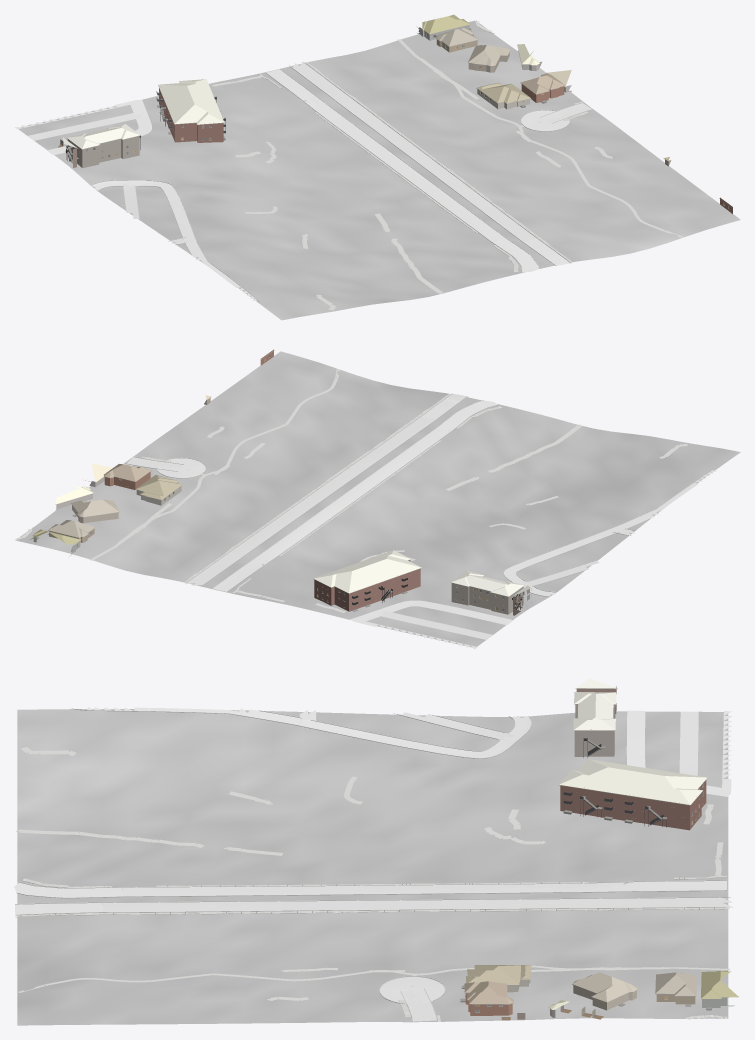
3 views of the same model, one above another, from view 1: azimuth 30°, elevation 25°; view 2: azimuth 150°, elevation 25°; view 3: azimuth 270°, elevation 25° (orthographic). The views are drawn at different scales.
Visible parts, largest first — view 1: ground, asphalt, roof, concrete, walk, wall, curb, detail, wall_stucco, mark_w; view 2: ground, asphalt, roof, concrete, walk, wall, curb, detail, wall_stucco, mark_w; view 3: ground, asphalt, roof, concrete, walk, curb, wall, detail, mark_w, wall_stucco, mark_y.
Boxes of the visible parts, x1,y1,x2,y2 form: ground: [18, 20, 740, 320]; asphalt: [266, 62, 569, 272]; roof: [63, 14, 669, 160]; concrete: [14, 99, 591, 300]; walk: [212, 20, 683, 310]; wall: [67, 34, 732, 213]; curb: [91, 25, 592, 303]; detail: [66, 24, 732, 208]; wall_stucco: [417, 25, 529, 109]; mark_w: [266, 64, 568, 271]; ground: [15, 351, 740, 647]; asphalt: [185, 394, 497, 591]; roof: [30, 395, 530, 596]; concrete: [126, 457, 716, 649]; walk: [14, 369, 687, 612]; wall: [49, 349, 523, 615]; curb: [20, 393, 719, 596]; detail: [33, 350, 531, 611]; wall_stucco: [33, 482, 181, 556]; mark_w: [189, 394, 495, 590]; ground: [17, 709, 728, 1025]; asphalt: [14, 881, 732, 914]; roof: [464, 678, 738, 1009]; concrete: [87, 707, 732, 1021]; walk: [15, 747, 729, 1021]; curb: [15, 708, 732, 1021]; wall: [465, 686, 706, 1015]; detail: [460, 688, 728, 1013]; mark_w: [17, 881, 725, 914]; wall_stucco: [507, 978, 734, 1010]; mark_y: [17, 890, 728, 904].
Bounding box in the file's own units: 258 × 21.02 × 256.
